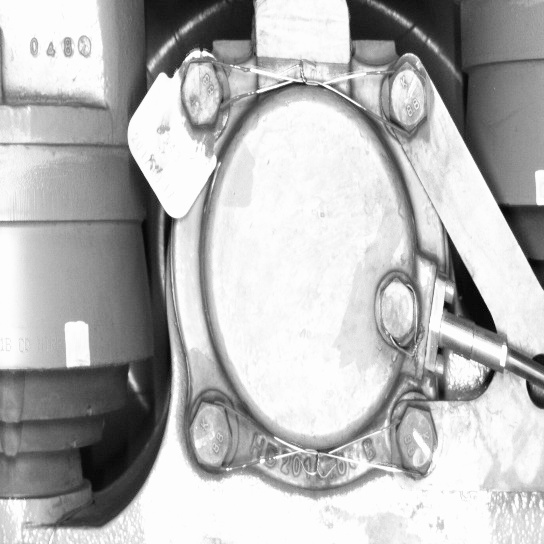IronWire: (180, 388, 452, 483), (163, 51, 434, 143)
Screw: (177, 391, 243, 480), (168, 53, 233, 140), (366, 264, 426, 351), (387, 398, 451, 477), (382, 53, 434, 140)
